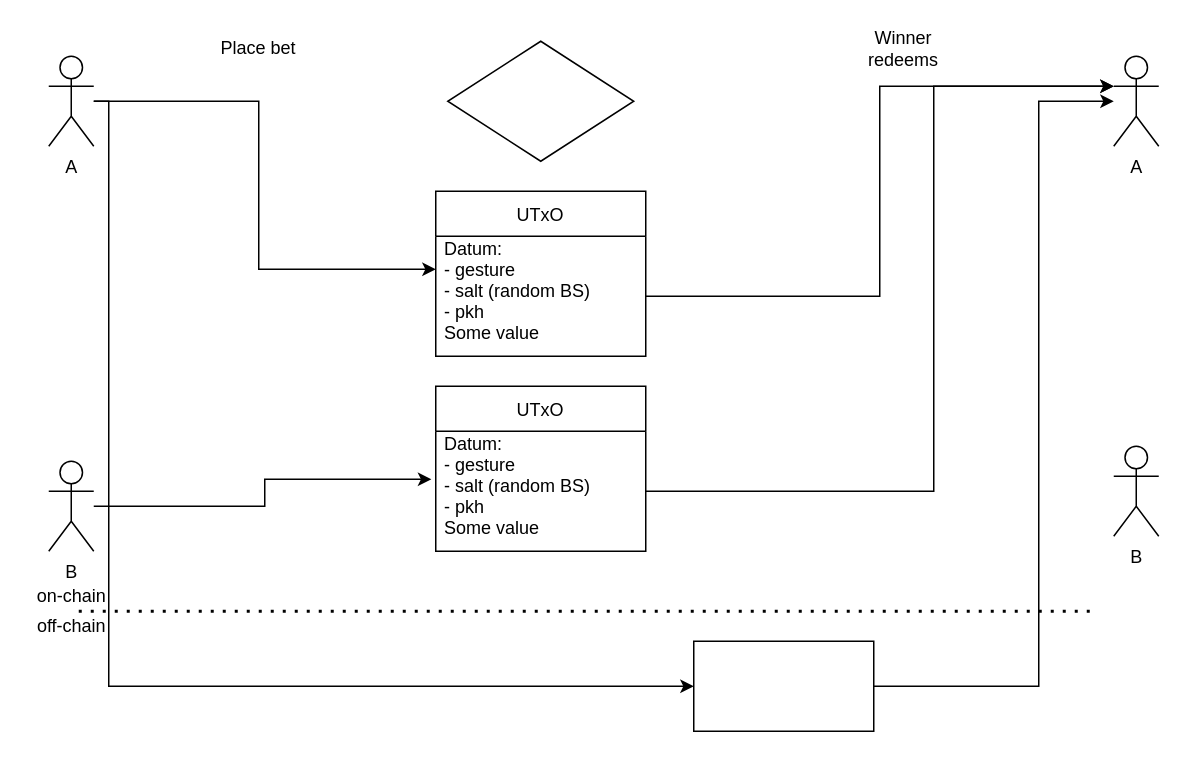
Image size: 1185x758. Some labels were removed from this diagram. Here are the shapes that lost their labels. From the top down, the box of each, then its label:
(446, 40, 634, 161): script validator
(692, 640, 874, 731): reveal datum
